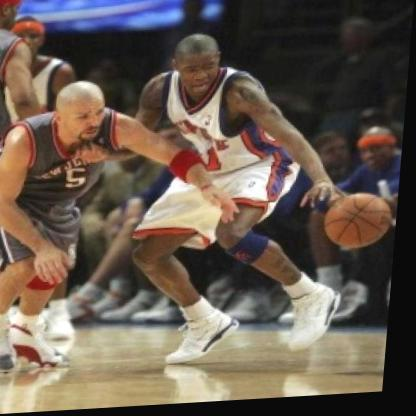basketball: (324, 196, 400, 258)
